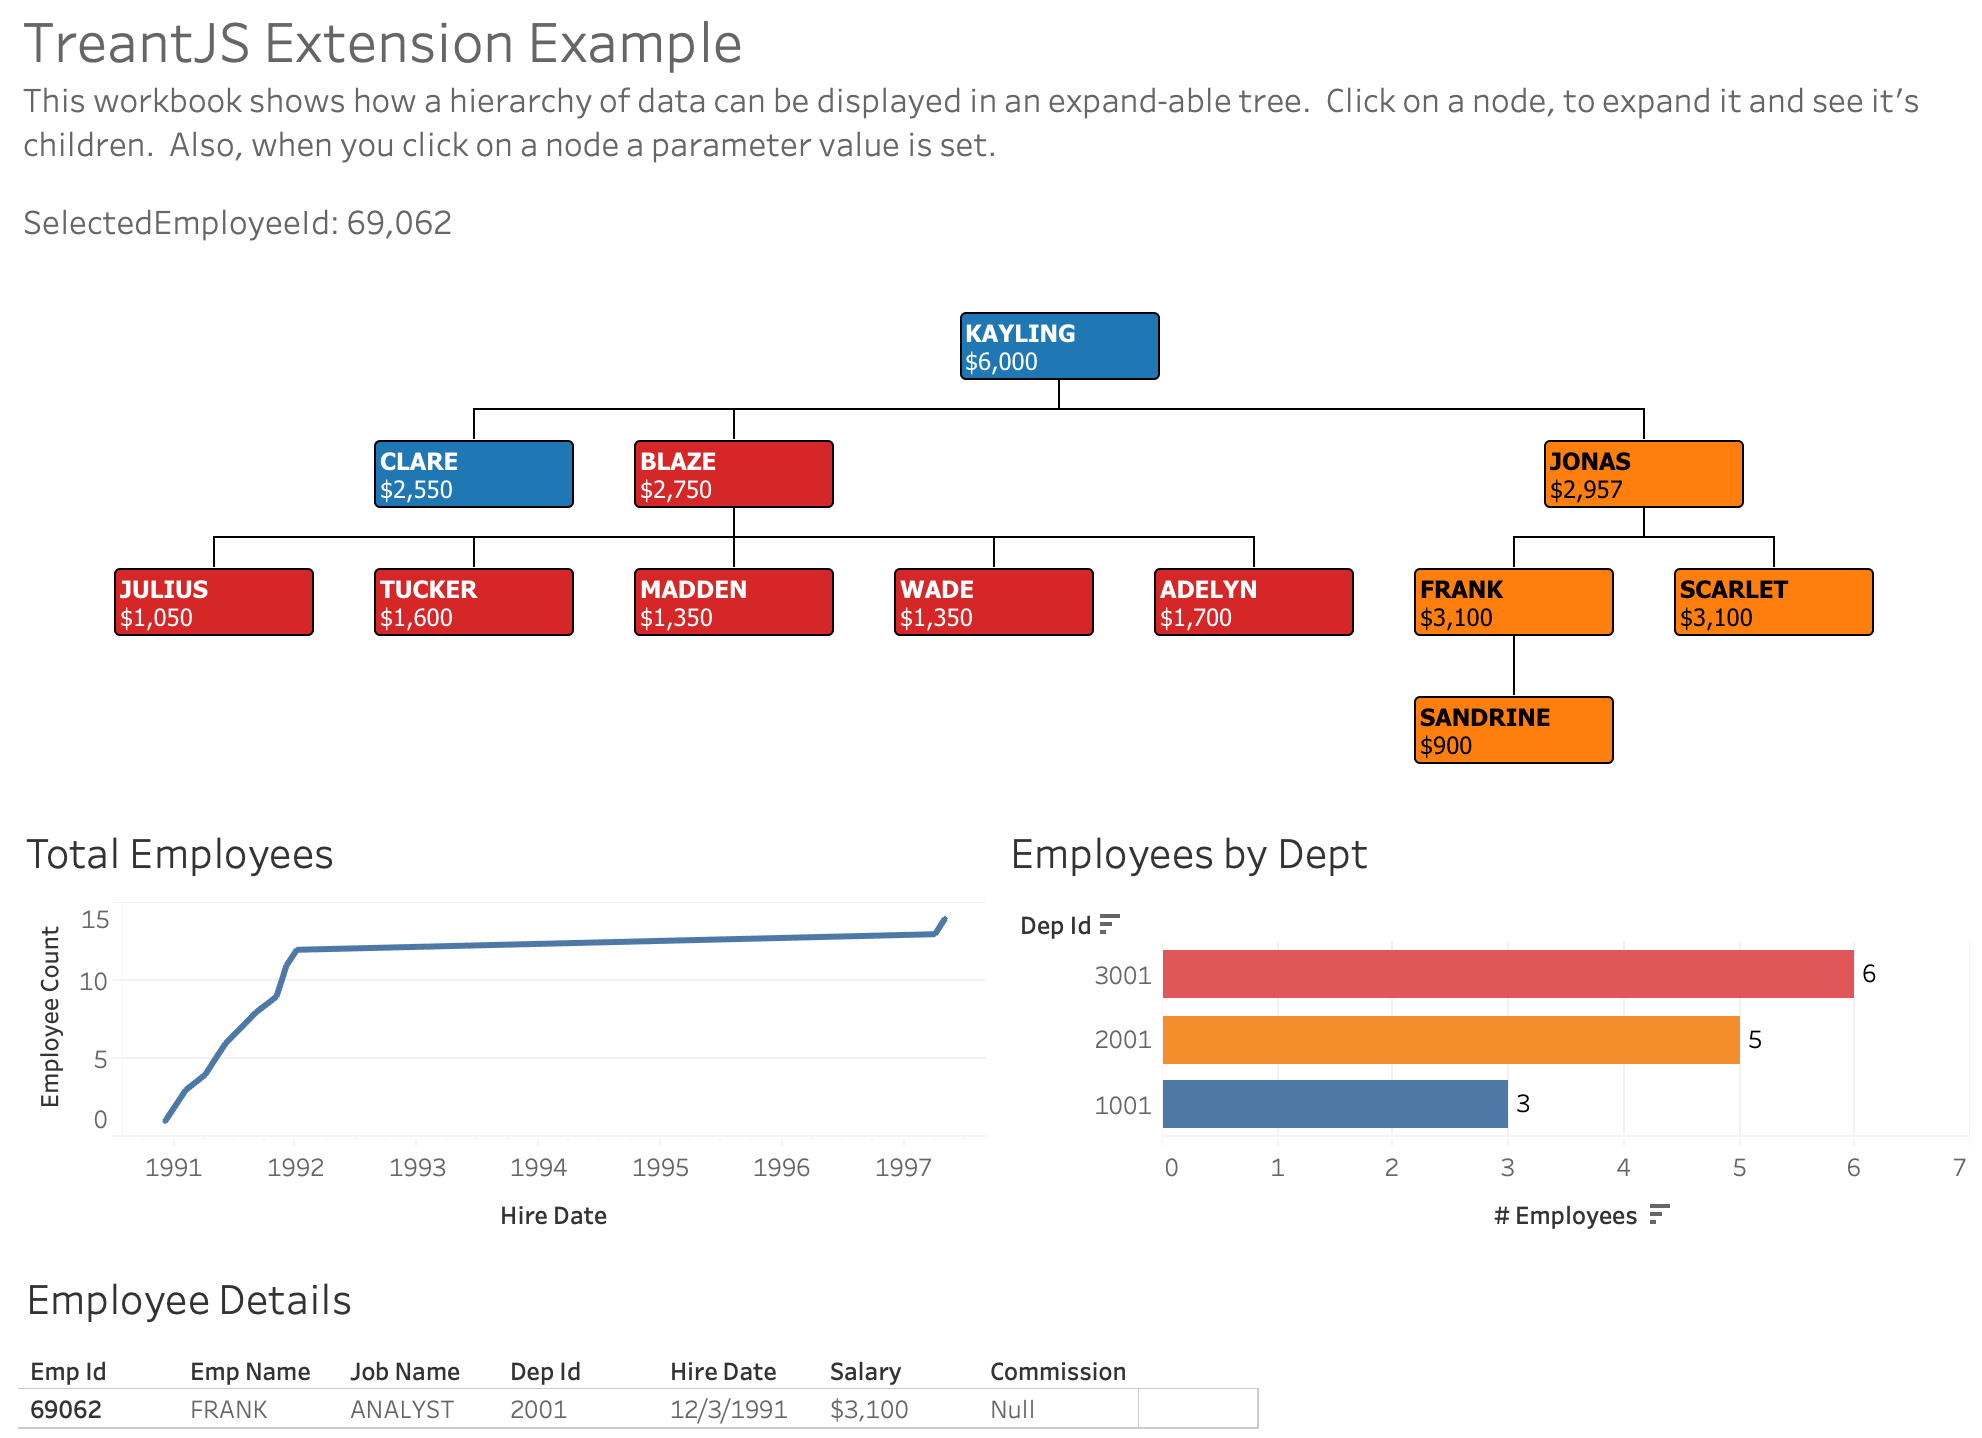

What the dashboard file says about the page in this screenshot:
{"tool":"tableau","page":{"name":"Dashboard 1","canvas":[1000,800],"ordinal":0},"visuals":[{"type":"text","box":[8,8,984,139]},{"type":"dashboard-object","param":"[com.tableau.extensions.treantjs].[0.1.0].[https://takashibinns.github.io/tablea","box":[8,147,984,271]},{"type":"worksheet","title":"data","mark":"Automatic","box":[314.8,308.3,284.8,227.1]},{"type":"worksheet","title":"Total Employees","mark":"Automatic","rows":["Number of Records"],"cols":["hire_date  "],"box":[8,418,492,223]},{"type":"worksheet","title":"Employees by Dept","mark":"Automatic","rows":["dep_id"],"cols":["Number of Records"],"box":[500,418,492,223]},{"type":"worksheet","title":"Employee Details","mark":"Automatic","rows":["emp_id ","emp_name ","job_name  ","dep_id","hire_date  ","salary  ","commission "],"box":[8,641,984,151]},{"type":"dashboard-object","box":[982.4,775,17.6,25]}]}

Visuals, with their boxes on the page's 1000x800 design canvas (x1, y1, x2, y2). These are canvas units, not pixel positions in the 1982x1438 screenshot, which may show the page scaled, cropped or inside an application window:
text: [left=8, top=8, right=992, bottom=147]
dashboard-object: [left=8, top=147, right=992, bottom=418]
"data" worksheet: [left=315, top=308, right=600, bottom=535]
"Total Employees" worksheet: [left=8, top=418, right=500, bottom=641]
"Employees by Dept" worksheet: [left=500, top=418, right=992, bottom=641]
"Employee Details" worksheet: [left=8, top=641, right=992, bottom=792]
dashboard-object: [left=982, top=775, right=1000, bottom=800]
